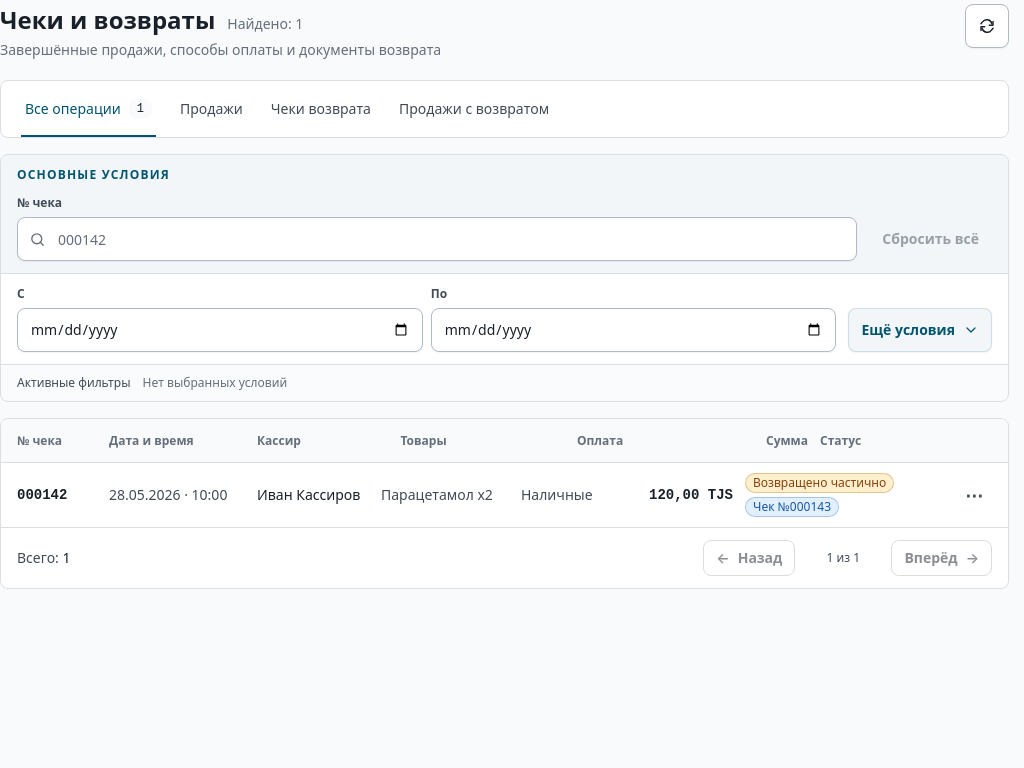
SalesPage › offers a retry when receipt details fail to load
This screenshot has width=1024, height=768.
Click the button with aria-label "Открыть чек № 000142" at (42,495), box [1,463,1008,527]
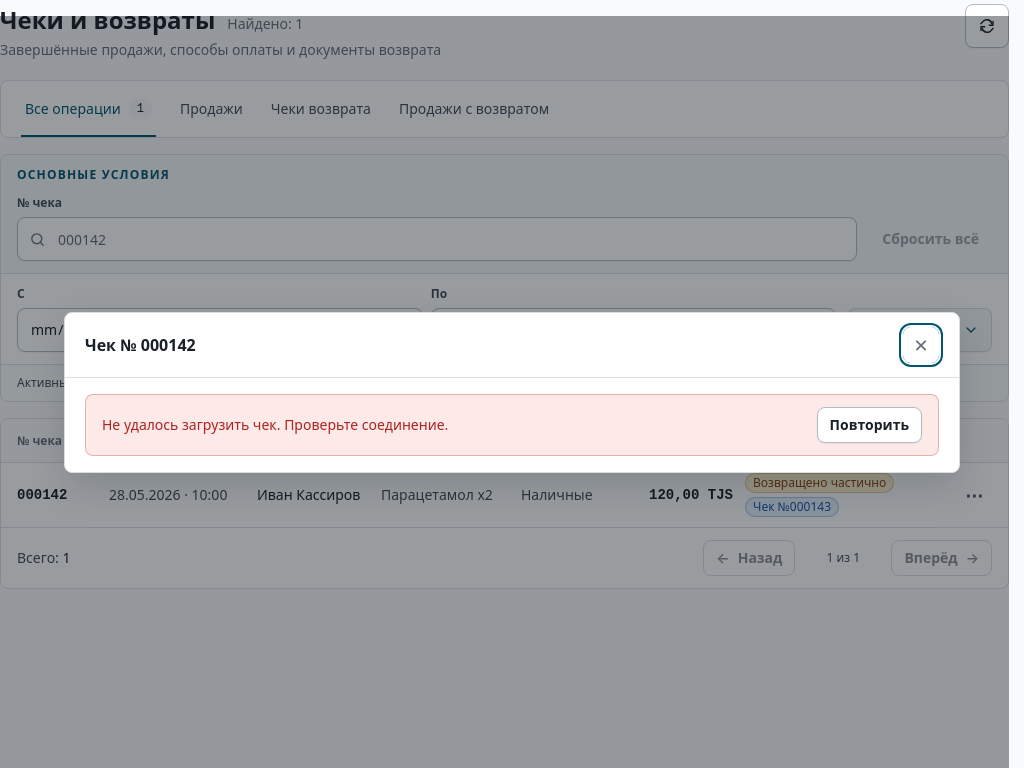
Now the message shows "Не удалось загрузить чек", box [102,414,448,434]
Click the button "Повторить" at (869,424), box [816,406,922,442]
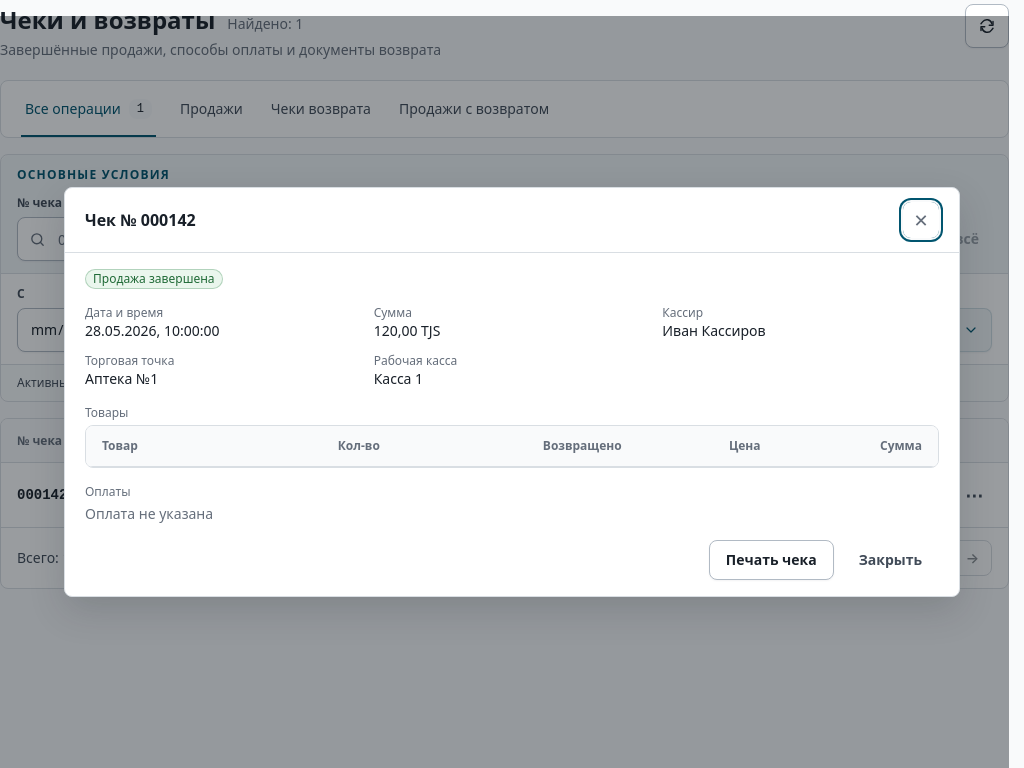
Now the text "Продажа завершена" is shown, box [85,269,223,289]
